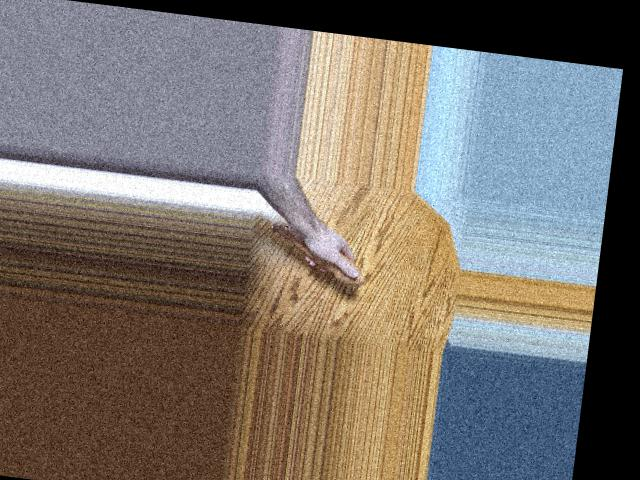sweet_potato: (264, 218, 366, 284)
